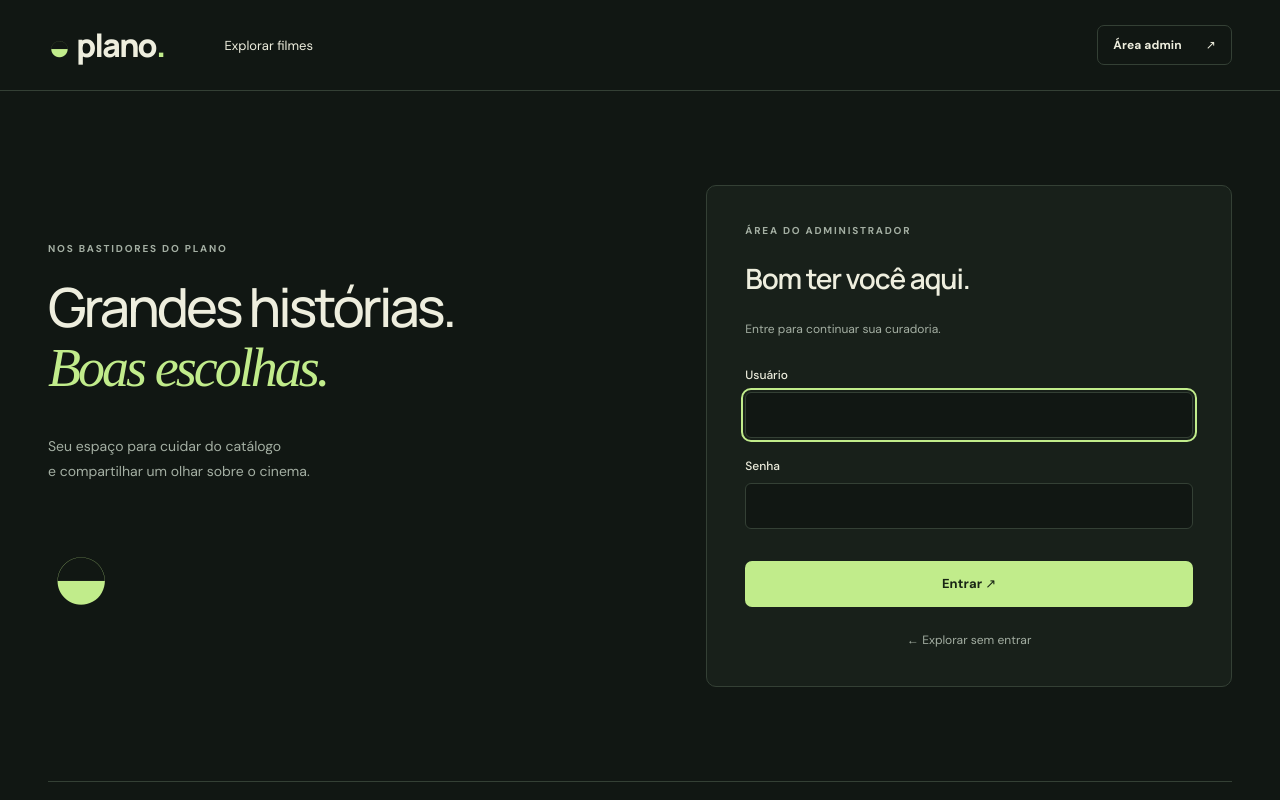
Test: protege cadastro e retorna ao formulário depois do login
Type "admin" into the field labelled "Usuário" at x=969, y=415, box [745, 392, 1193, 438]
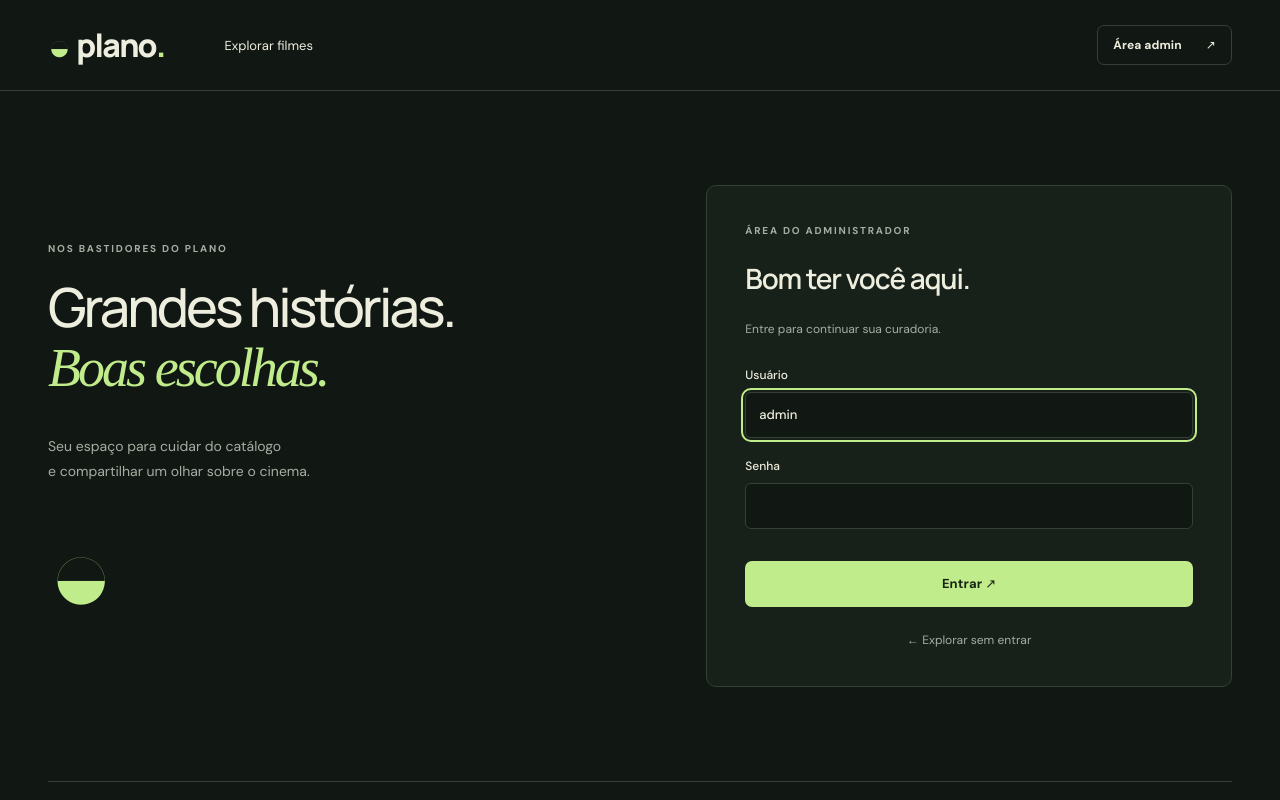
Type "test-password" into the password field labelled "Senha" at x=969, y=506, box [745, 483, 1193, 529]
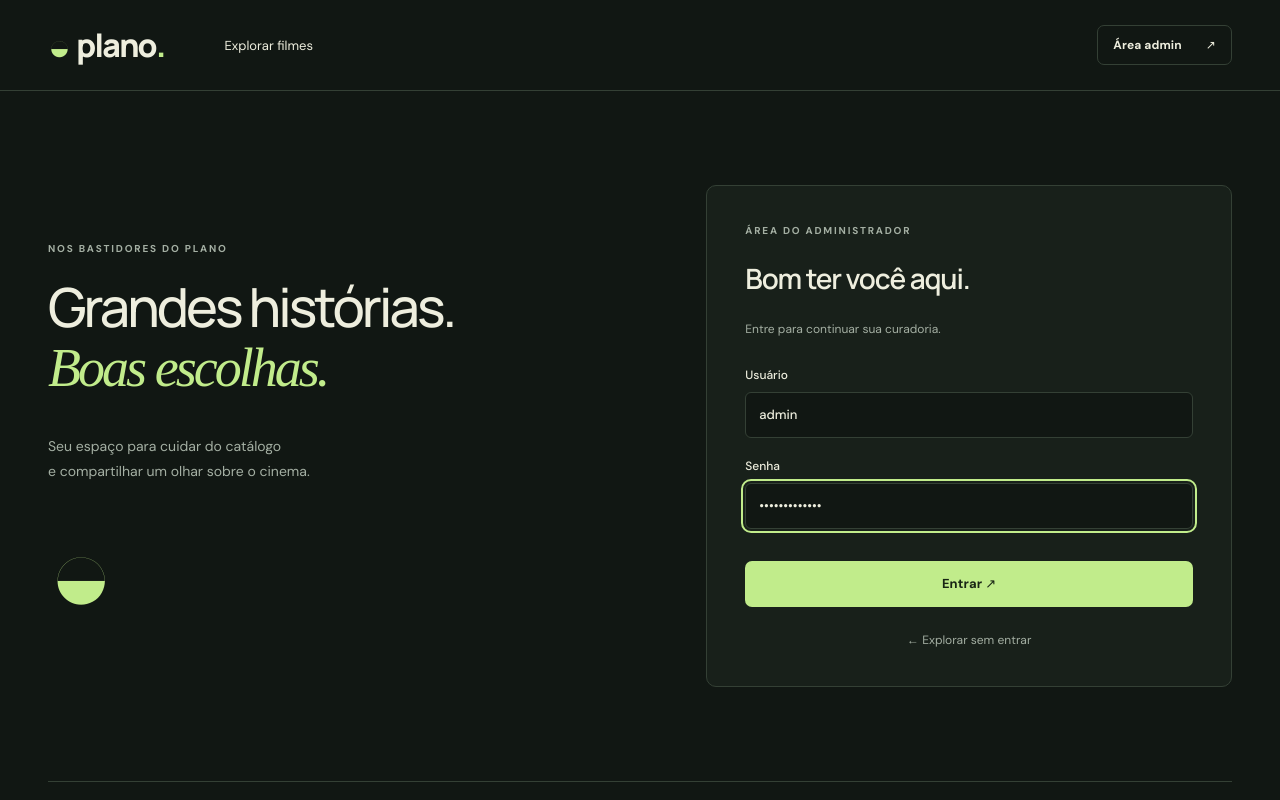
Click the button "Entrar ↗" at x=969, y=584, box [745, 561, 1193, 607]
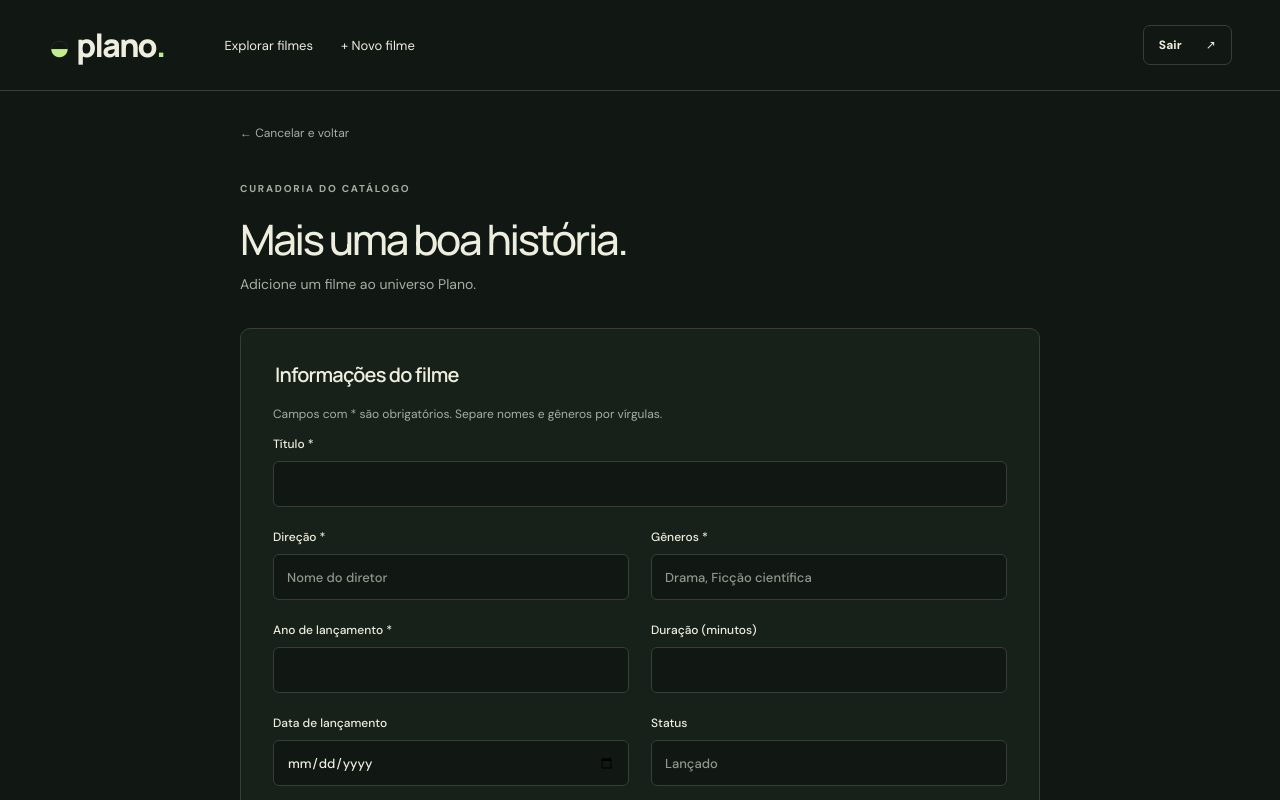
expect the heading "Mais uma boa história." is shown: met, box [240, 210, 626, 268]
